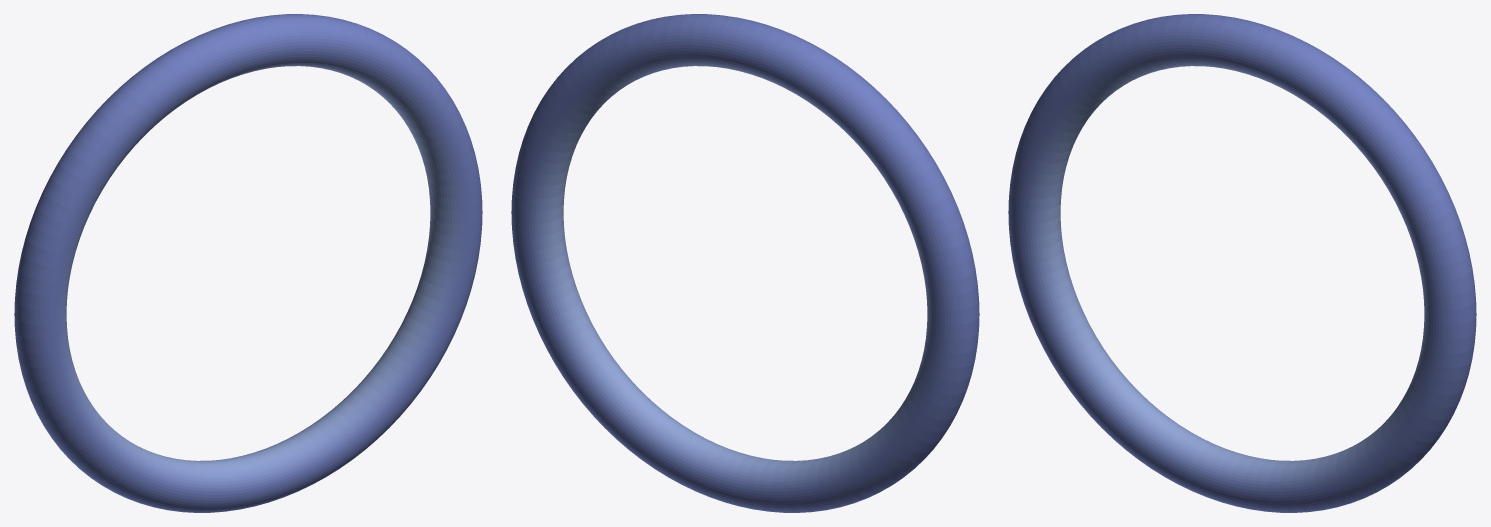
3 views of the same model, side by side, from view 1: azimuth 30°, elevation 25°; view 2: azimuth 150°, elevation 25°; view 3: azimuth 330°, elevation 25° (orthographic).
Visible parts, largest first — view 1: world; view 2: world; view 3: world.
Part boxes in pixels (bbox=[...]): world: bbox=[14, 14, 482, 512]; world: bbox=[511, 14, 979, 512]; world: bbox=[1008, 14, 1476, 512].
Size of the model in its own units: 25.87 by 25.87 by 2.53.
